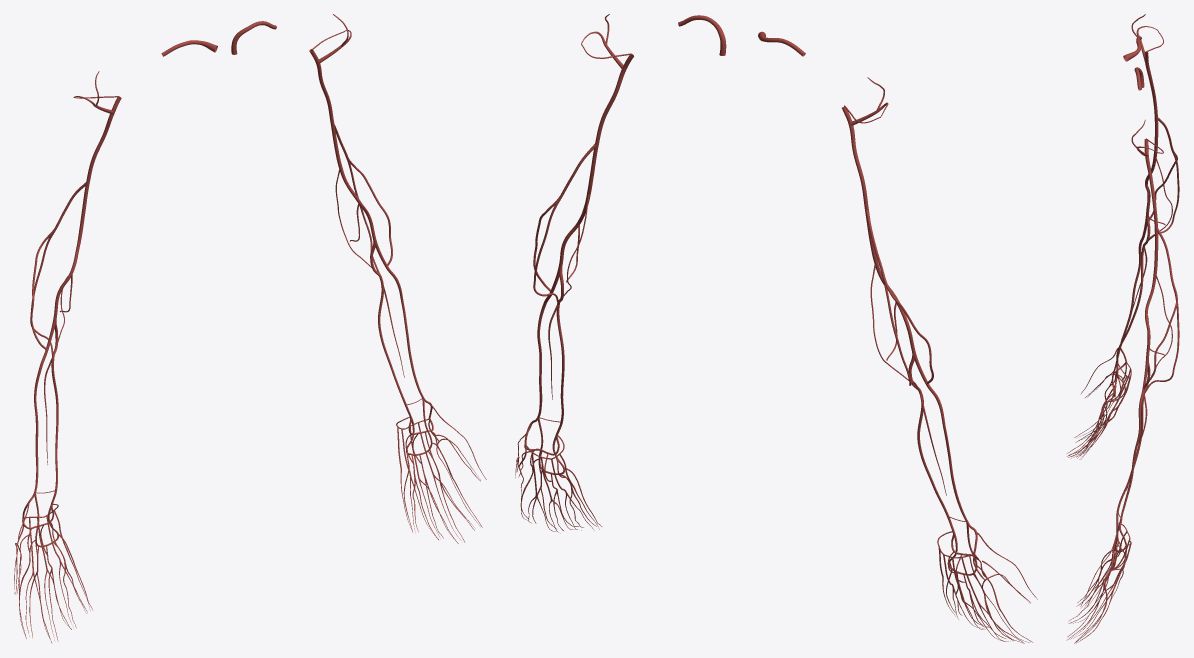
File: arterial-upper-limb-balanced.glb
The picture shows the model from 3 angles, left to right: view 1: azimuth 30°, elevation 25°; view 2: azimuth 150°, elevation 25°; view 3: azimuth 270°, elevation 25°; orthographic projection. The views are drawn at different scales.
Visible parts, largest first — view 1: za.proper-palmar-digital-arteries-r, za.proper-palmar-digital-arteries-l, za.brachial-artery-r, za.brachial-artery-l, za.dorsal-digital-arteries-of-hand-l, za.dorsal-digital-arteries-of-hand-r; view 2: za.brachial-artery-l, za.brachial-artery-r, za.proper-palmar-digital-arteries-r, za.radial-artery-r; view 3: za.brachial-artery-l, za.proper-palmar-digital-arteries-l, za.brachial-artery-r, za.proper-palmar-digital-arteries-r, za.radial-artery-l, za.dorsal-digital-arteries-of-hand-l, za.ulnar-artery-r, za.radial-artery-r, za.ulnar-artery-l, za.dorsal-digital-arteries-of-hand-r, za.radial-collateral-artery-l, za.dorsal-metacarpal-arteries-r (+1 smaller).
Boxes of the visible parts, x1,y1,x2,y2 form: za.proper-palmar-digital-arteries-r: (15, 503, 92, 643); za.proper-palmar-digital-arteries-l: (403, 405, 486, 543); za.brachial-artery-r: (54, 96, 121, 316); za.brachial-artery-l: (309, 49, 375, 239); za.dorsal-digital-arteries-of-hand-l: (400, 438, 480, 540); za.dorsal-digital-arteries-of-hand-r: (14, 543, 90, 640); za.brachial-artery-l: (559, 54, 633, 264); za.brachial-artery-r: (842, 106, 914, 350); za.proper-palmar-digital-arteries-r: (946, 532, 1037, 642); za.radial-artery-r: (913, 350, 977, 554); za.brachial-artery-l: (1144, 139, 1158, 357); za.proper-palmar-digital-arteries-l: (1066, 528, 1119, 643); za.brachial-artery-r: (1144, 52, 1158, 213); za.proper-palmar-digital-arteries-r: (1067, 347, 1118, 458); za.radial-artery-l: (1119, 357, 1148, 545); za.dorsal-digital-arteries-of-hand-l: (1070, 561, 1123, 643); za.ulnar-artery-r: (1116, 213, 1150, 362); za.radial-artery-r: (1120, 216, 1147, 362); za.ulnar-artery-l: (1116, 360, 1150, 523); za.dorsal-digital-arteries-of-hand-r: (1069, 374, 1123, 459); za.radial-collateral-artery-l: (1143, 279, 1177, 388); za.dorsal-metacarpal-arteries-r: (1109, 363, 1131, 414).
Size of the model in its own units: 0.664 by 0.7201 by 0.1492.
